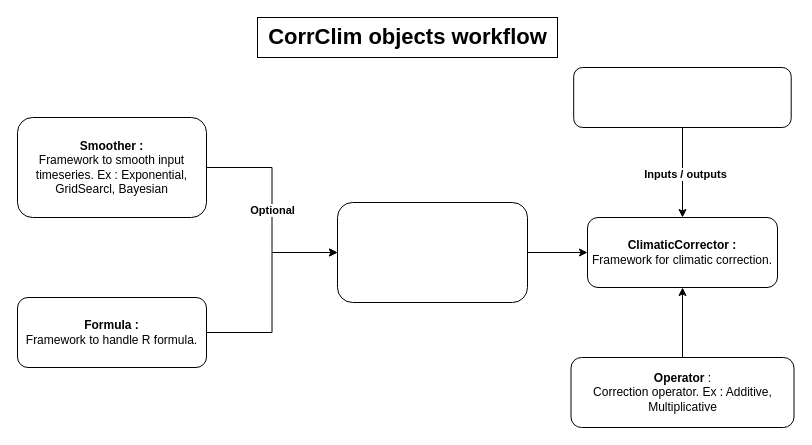
Image size: 812x445. Some labels were removed from this diagram. Here are the shapes that lost their labels. From the top down, the centre of each, then its label:
the point at 682,97: TimeseriesDT : Framework to validate, process data.table timeseries.
the point at 432,252: TimeseriesModel : Core timeseries model. Ex : GAM, GradDelta
